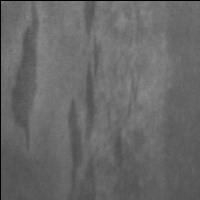inclusion: (65, 36, 103, 200), (9, 1, 42, 154), (108, 114, 130, 172), (79, 1, 99, 46)
